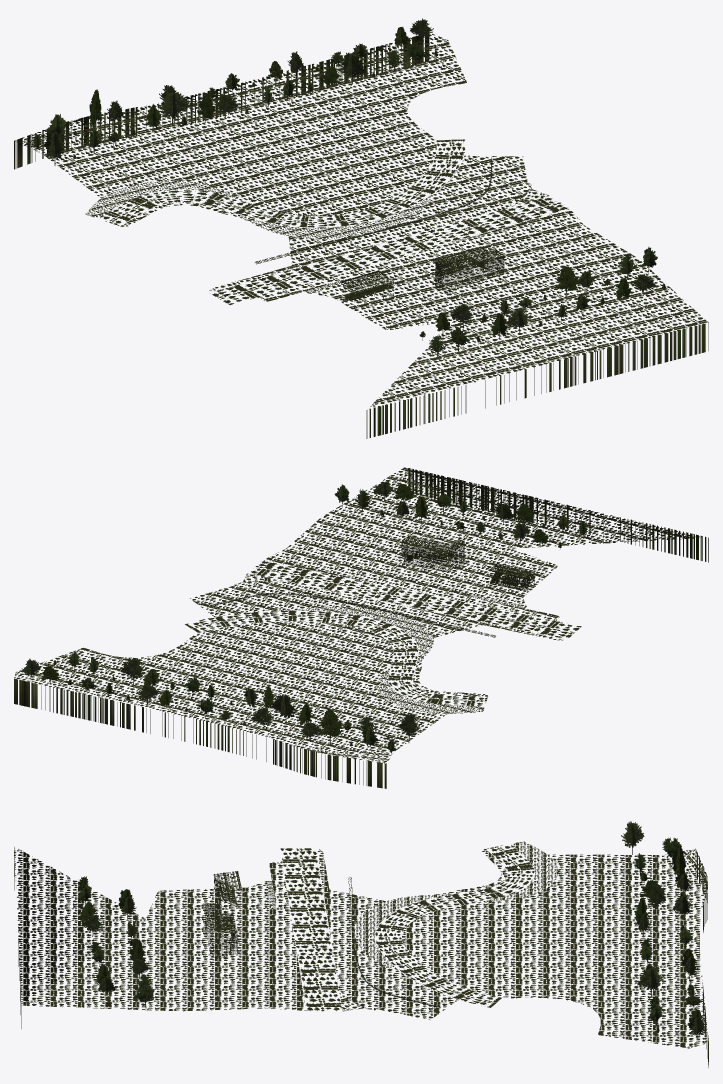
Rendered from redring7.glb.
3 views of the same model, one above another, from view 1: azimuth 30°, elevation 25°; view 2: azimuth 150°, elevation 25°; view 3: azimuth 270°, elevation 25° (orthographic). The views are drawn at different scales.
Visible parts, largest first — view 1: redring7; view 2: redring7; view 3: redring7.
Boxes of the visible parts, x1,y1,x2,y2 form: redring7: (14, 18, 708, 438); redring7: (14, 467, 708, 788); redring7: (14, 821, 708, 1067).
Size of the model in its own units: 215 by 32.04 by 305.
1 material, 1 textured.
